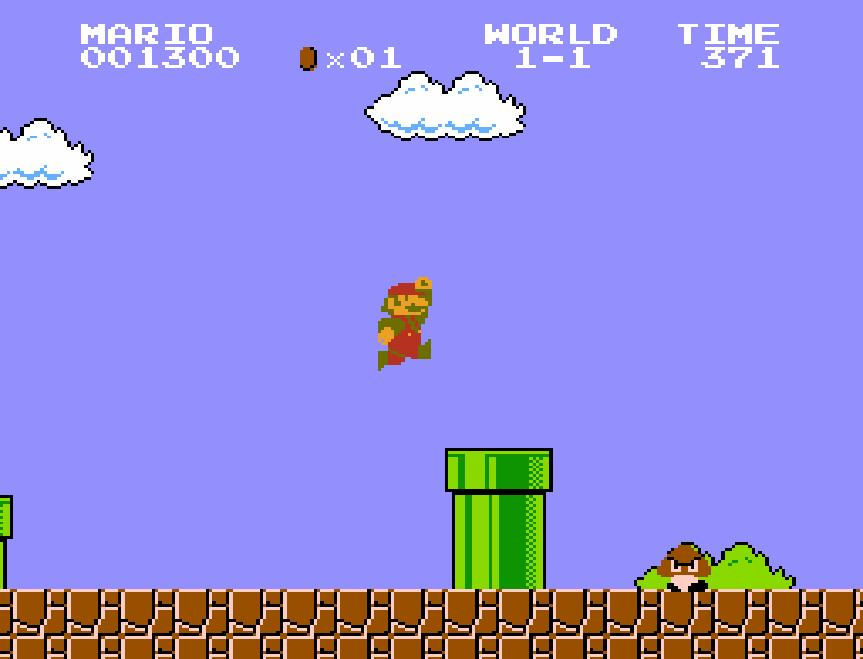big_mario: (376, 274, 434, 372)
